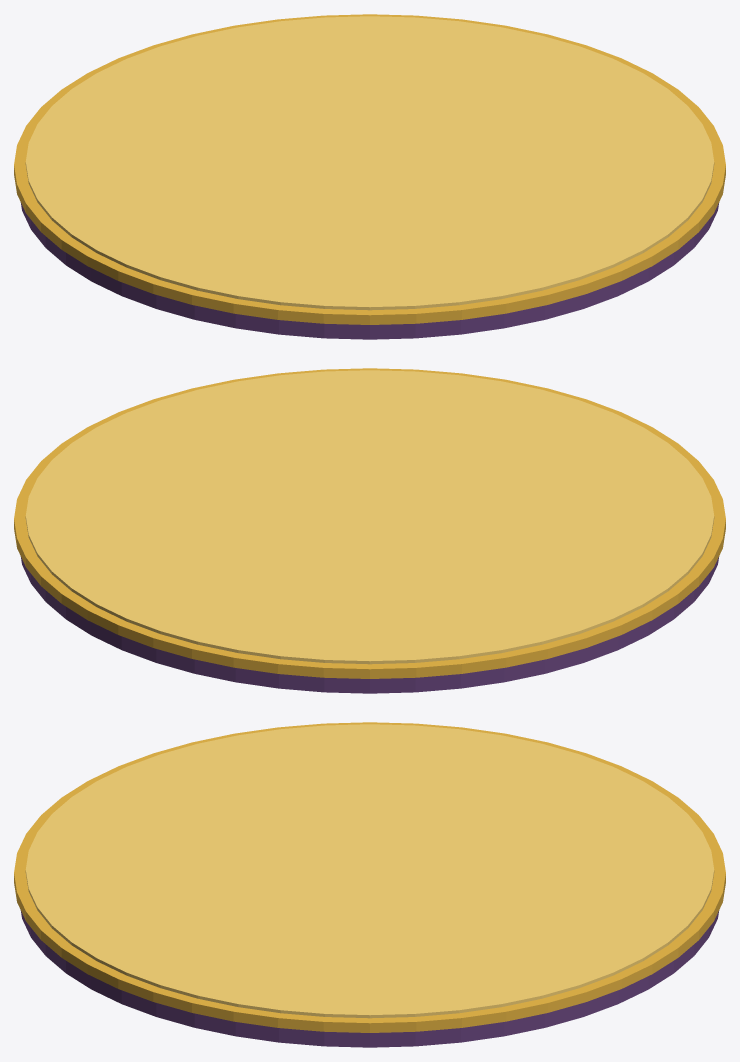
The model's file is carousel_deck.glb.
3 views of the same model, one above another, from view 1: azimuth 30°, elevation 25°; view 2: azimuth 150°, elevation 25°; view 3: azimuth 270°, elevation 25° (orthographic).
Parts seen in each view (by area): view 1: carousel_deck; view 2: carousel_deck; view 3: carousel_deck.
Part boxes in pixels (bbox=[...]): carousel_deck: bbox=[14, 14, 725, 339]; carousel_deck: bbox=[14, 368, 725, 693]; carousel_deck: bbox=[14, 722, 725, 1047].
Size of the model in its own units: 8.48 by 0.39 by 8.48.
